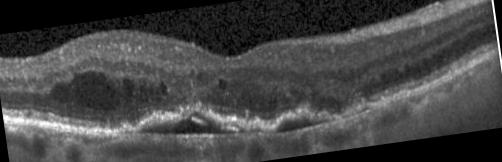intraretinal_cyst: (72, 70, 119, 110), (47, 82, 72, 102), (121, 78, 134, 97), (158, 80, 168, 95), (219, 79, 227, 90)
subretinal_fluid: (140, 110, 236, 135), (275, 111, 330, 133)
subretinal_hyperreflective_material: (117, 97, 382, 138)
